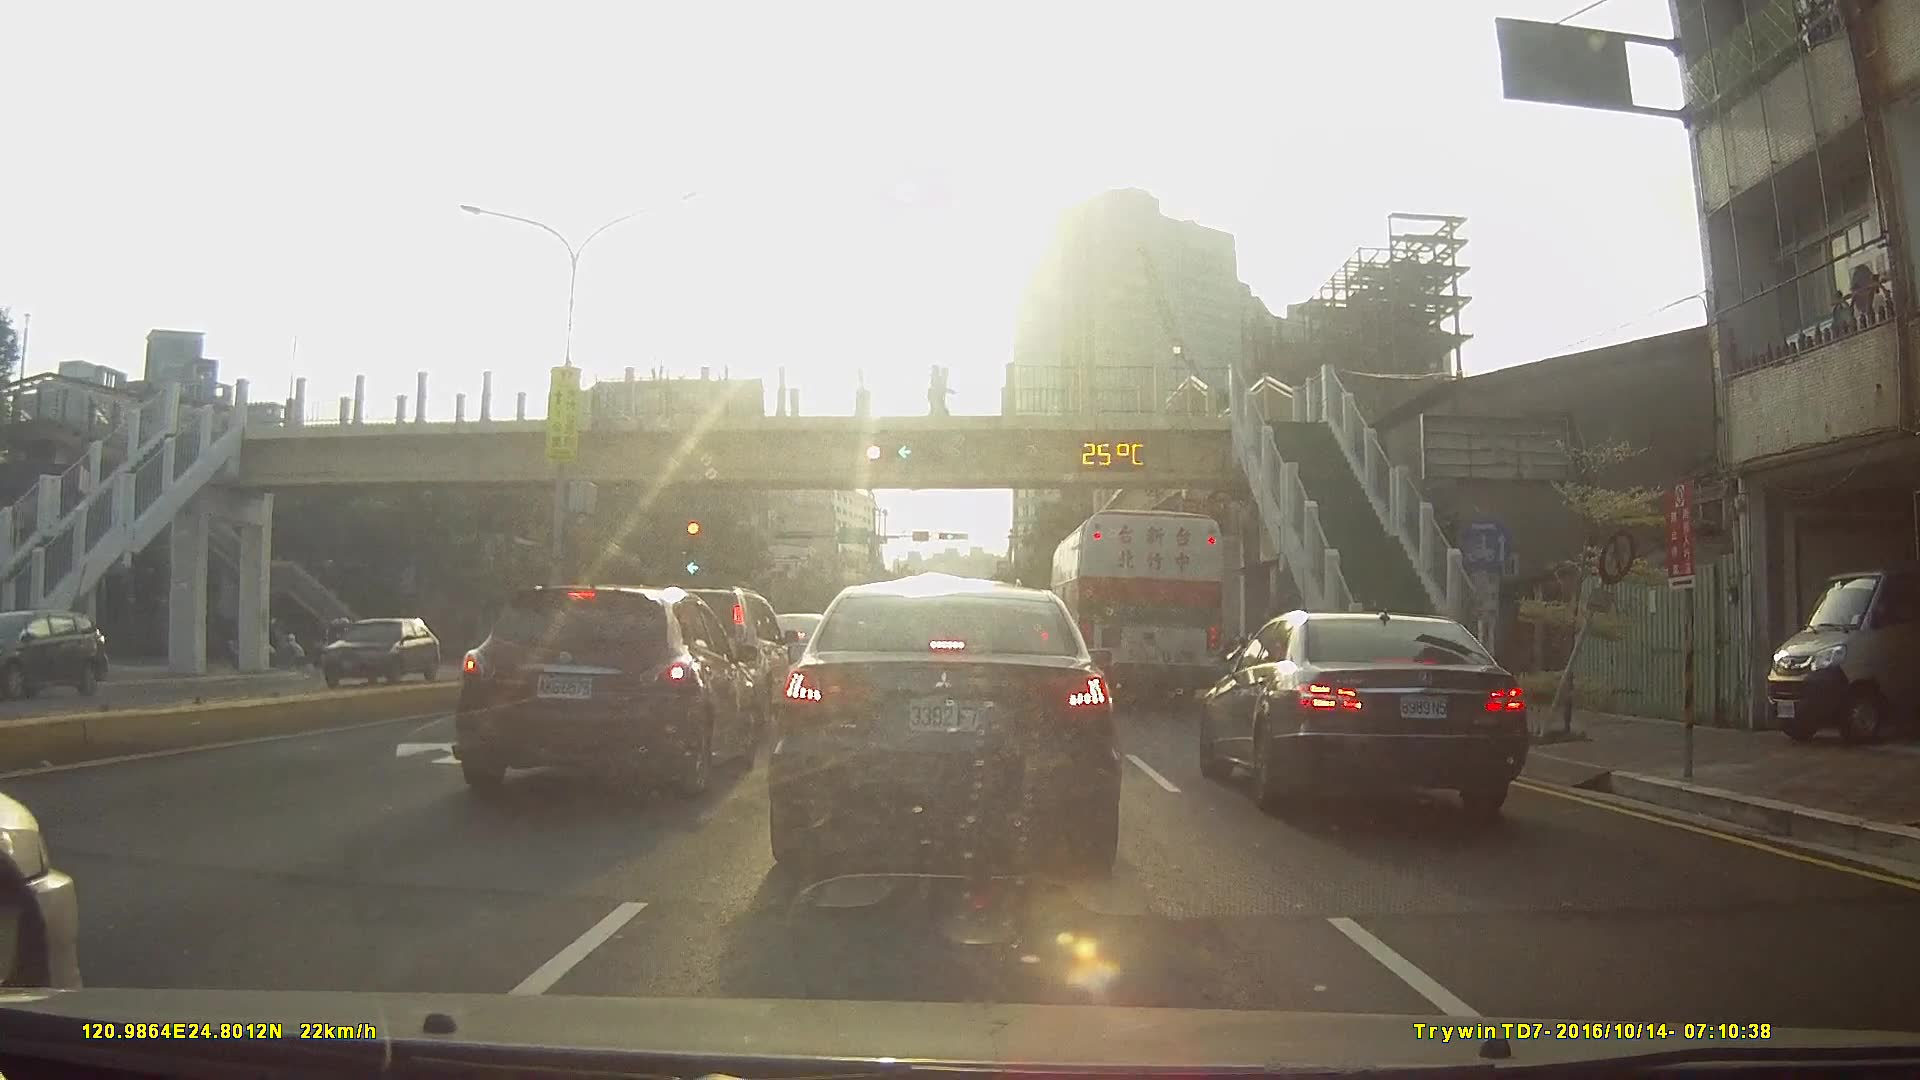pedestrian: (931, 366, 953, 415)
vehicle: (764, 577, 1126, 871), (1193, 603, 1524, 821), (447, 579, 761, 801), (1049, 506, 1226, 701), (0, 606, 106, 699), (308, 614, 433, 686)
